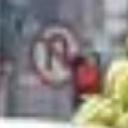NoVirarU: (32, 23, 74, 85)
